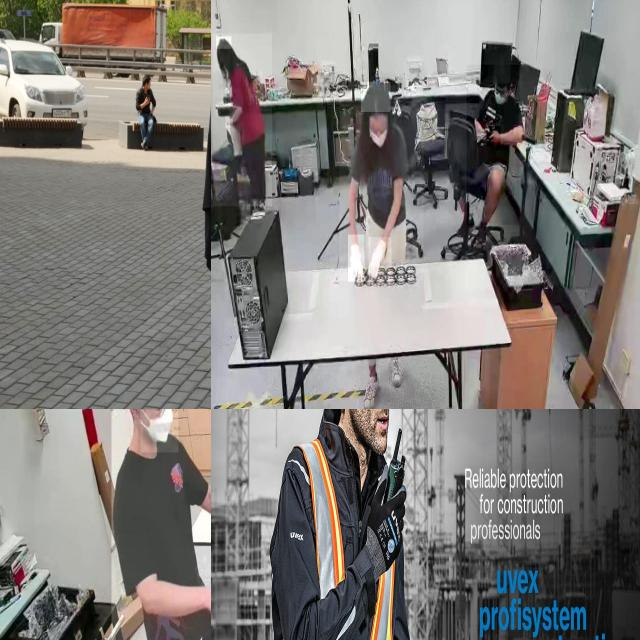face_mask: (140, 409, 178, 452)
glasses: (151, 409, 178, 422)
hand_glove: (367, 485, 412, 556), (368, 237, 392, 285), (348, 235, 365, 282)
hand_noglove: (487, 126, 501, 148), (226, 116, 233, 128)
head_nohelmet: (361, 81, 391, 112), (494, 65, 511, 84), (216, 36, 232, 50)
person: (270, 409, 459, 640), (111, 409, 211, 640), (340, 85, 424, 282), (212, 34, 272, 207), (466, 64, 520, 226)
shoes: (361, 371, 381, 409)
vest: (278, 428, 390, 640)
